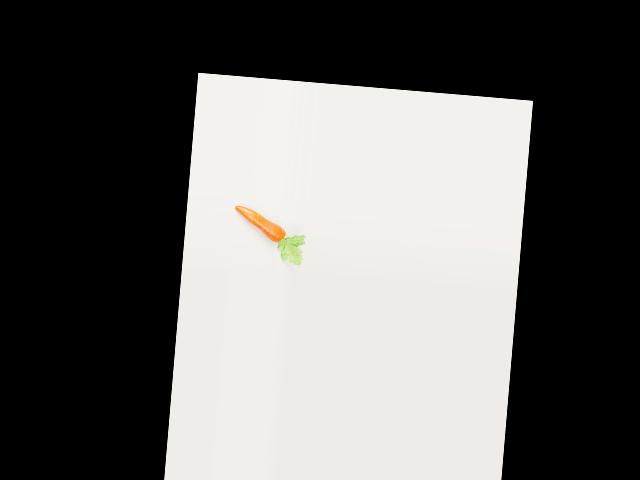carrot: (229, 203, 294, 249)
